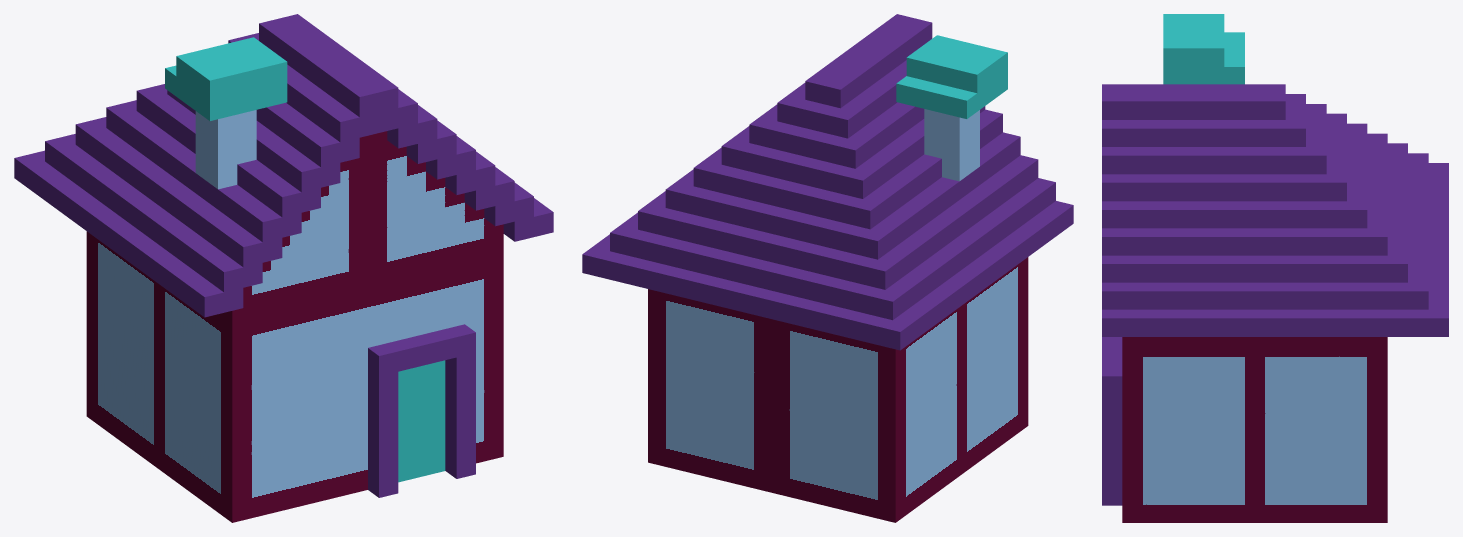
The model's file is CasaVox.fbx.
3 renders of one model, left to right at view 1: azimuth 30°, elevation 25°; view 2: azimuth 150°, elevation 25°; view 3: azimuth 270°, elevation 25°, orthographic. The views are drawn at different scales.
Visible parts, largest first — view 1: Untitled; view 2: Untitled; view 3: Untitled.
Part boxes in pixels (x1,y1,x2,y2): Untitled: (14, 14, 553, 522); Untitled: (582, 14, 1073, 522); Untitled: (1102, 14, 1448, 522).
Size of the model in its own units: 180 by 210 by 170.
1 material, 1 textured.
